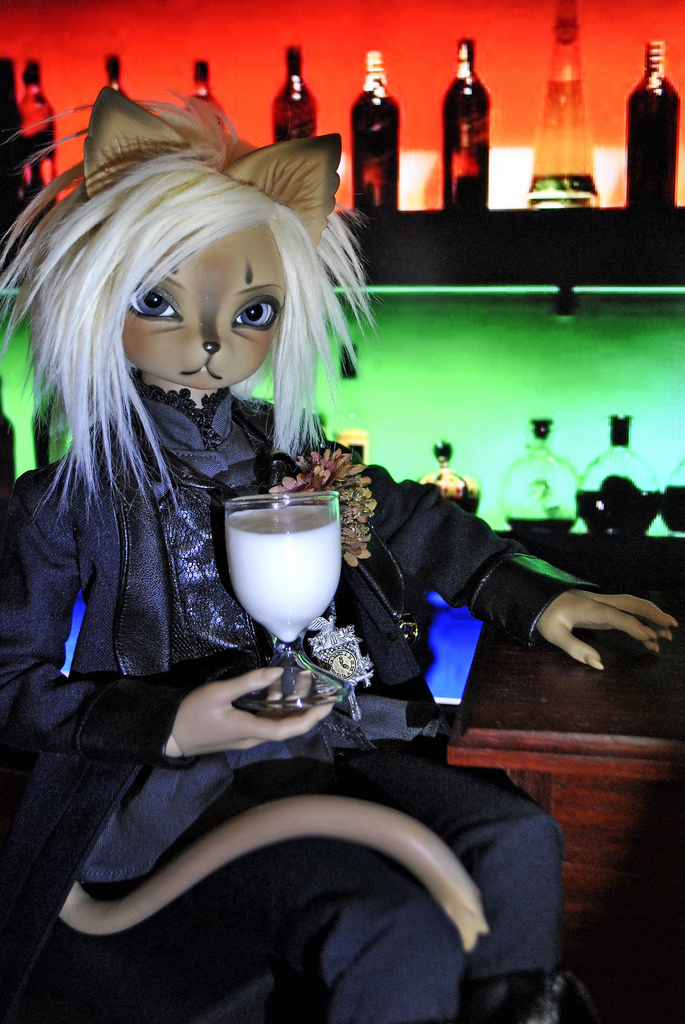glass of milk: (223, 499, 344, 701)
